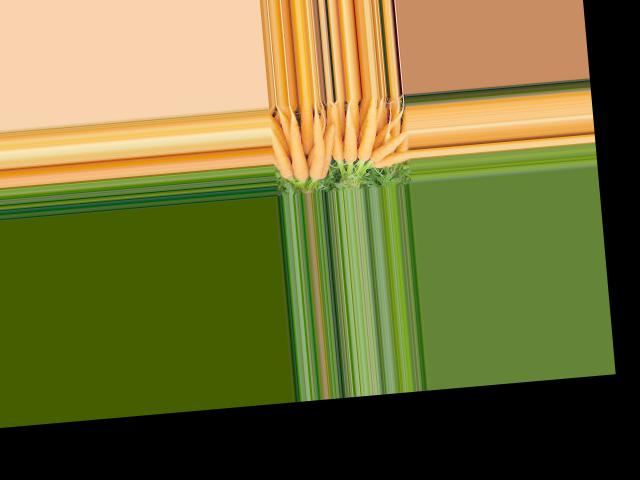carrot: (283, 106, 311, 181)
